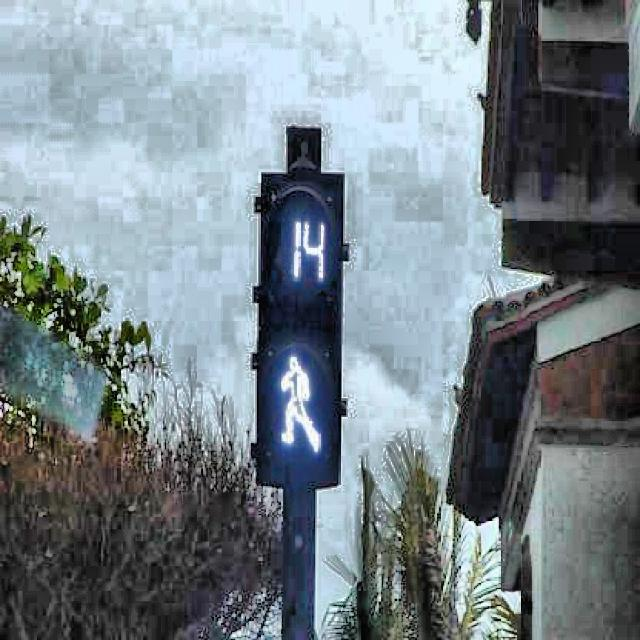semaforo pedestre: (166, 138, 397, 570)
